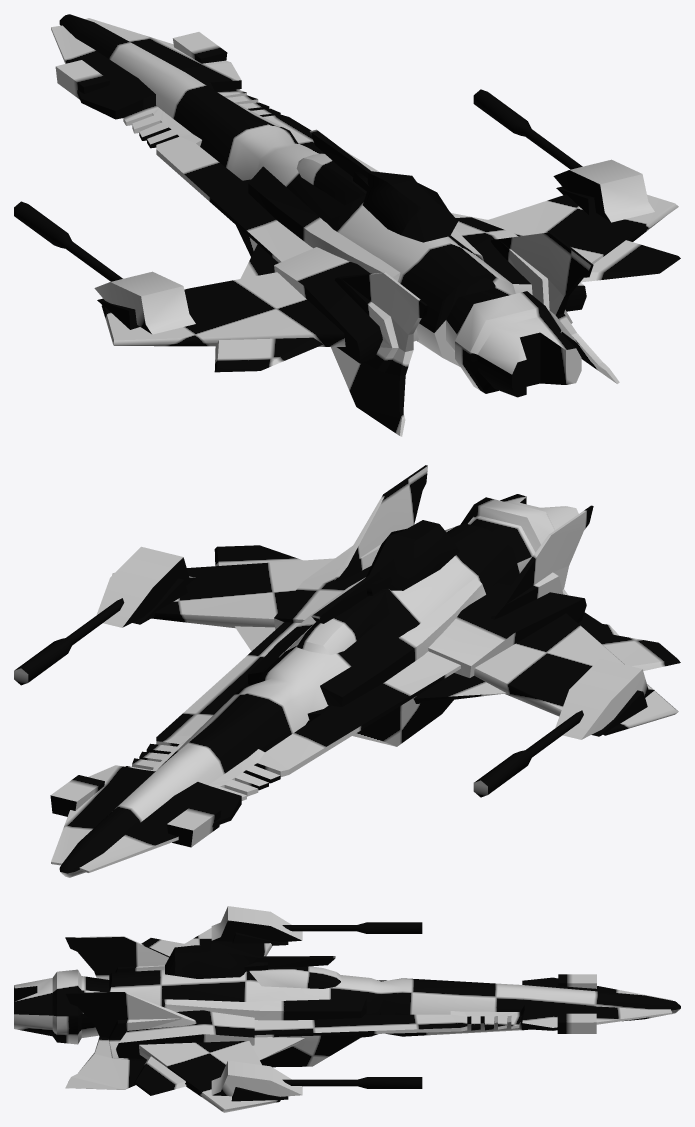
The model's file is piranha.obj.
The picture shows the model from 3 angles, top to bottom: view 1: azimuth 30°, elevation 25°; view 2: azimuth 150°, elevation 25°; view 3: azimuth 270°, elevation 25°; orthographic projection. The views are drawn at different scales.
Visible parts, largest first — view 1: main; view 2: main; view 3: main.
Boxes of the visible parts, x1=… form: main: x1=14, y1=14, x2=680, y2=436; main: x1=14, y1=465, x2=680, y2=877; main: x1=14, y1=906, x2=680, y2=1112.
Size of the model in its own units: 73.58 by 19.16 by 109.
1 material, 1 textured.
